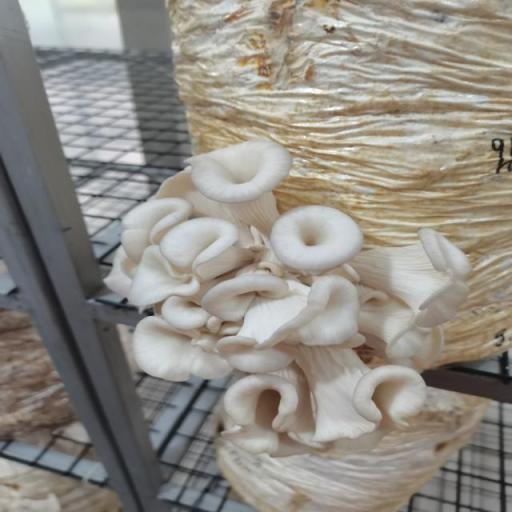White Oyster Mushroom: (91, 135, 486, 459)
